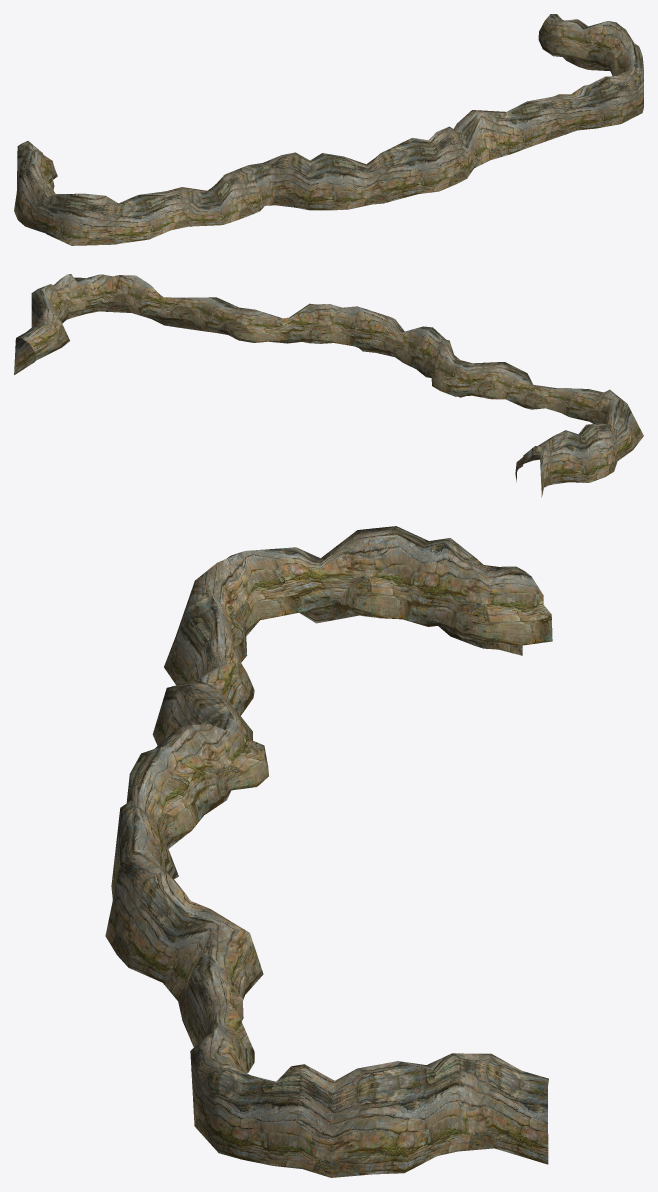
File: DN_lv6_zzstone01.FBX
The picture shows the model from 3 angles, top to bottom: view 1: azimuth 30°, elevation 25°; view 2: azimuth 150°, elevation 25°; view 3: azimuth 270°, elevation 25°; orthographic projection. The views are drawn at different scales.
Parts seen in each view (by area): view 1: DN_lv6_zzstone01; view 2: DN_lv6_zzstone01; view 3: DN_lv6_zzstone01.
Boxes of the visible parts, x1,y1,x2,y2 form: DN_lv6_zzstone01: (14,14,643,245); DN_lv6_zzstone01: (14,274,643,497); DN_lv6_zzstone01: (105,526,552,1177).
Size of the model in its own units: 8478 by 789 by 2847.
